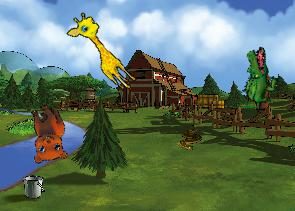bear: (16, 100, 75, 168)
crocodile: (230, 44, 287, 113)
giraffe: (62, 8, 146, 94)
